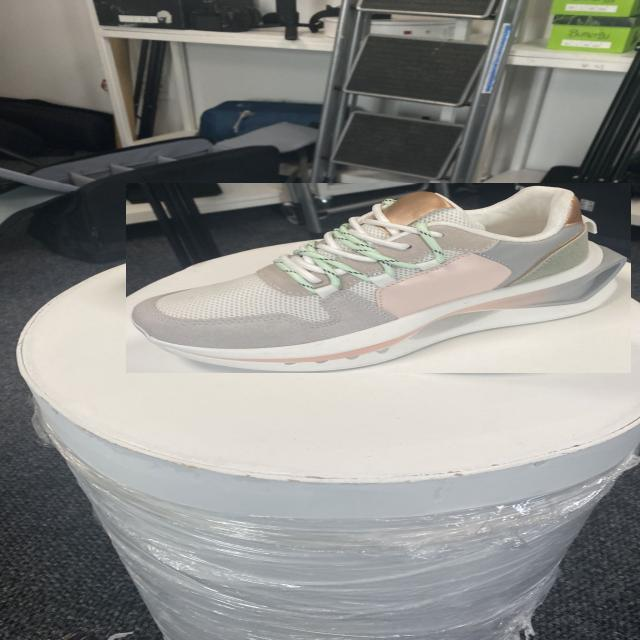shoe: (126, 183, 631, 373)
